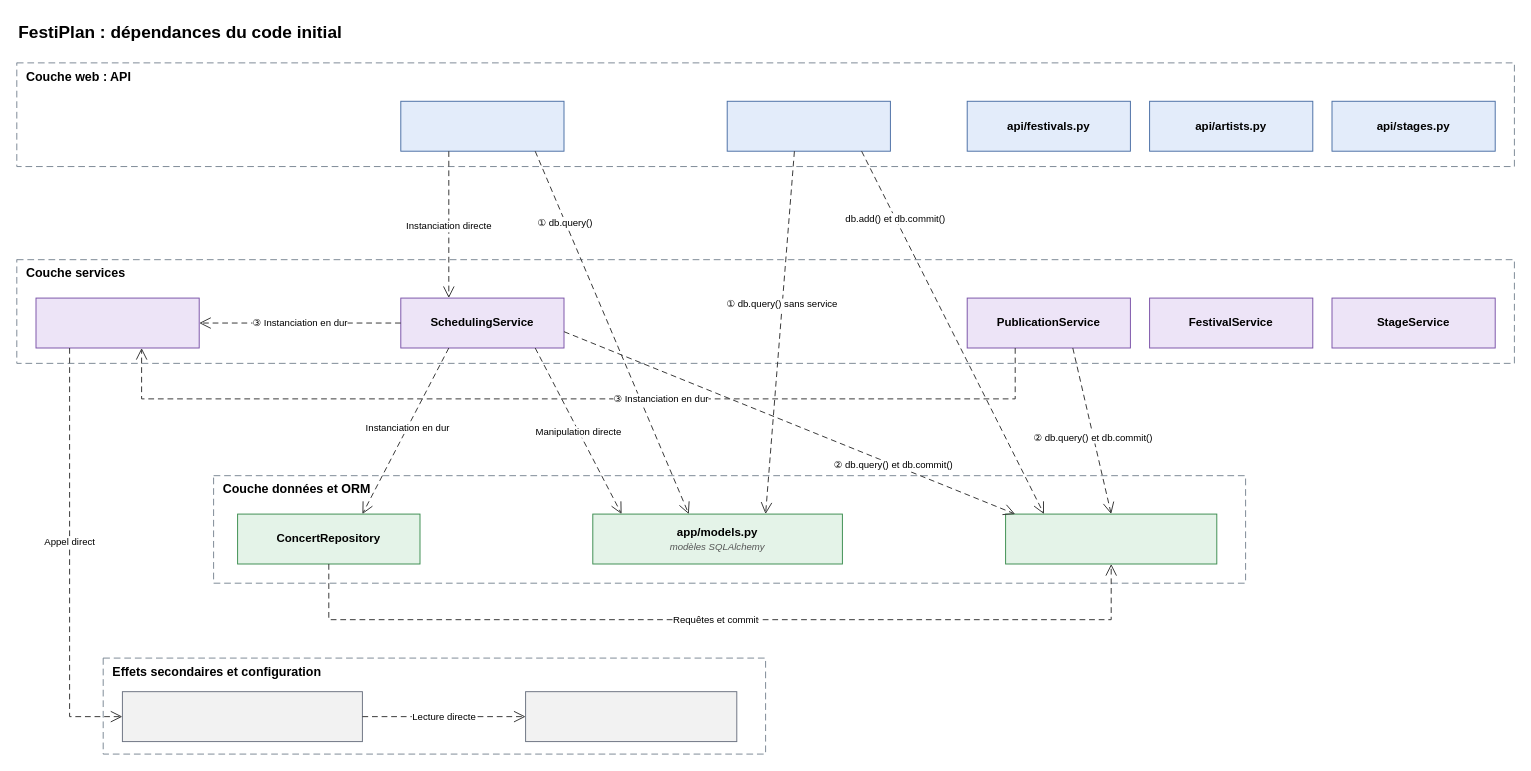
Image size: 1531x771. Some labels were removed from this diagram. The shapes that lost their labels are listed below. From the top down, each one's centre as x and y in pixels, then its label:
At point (482, 125): "api/concerts.py".
At point (808, 125): "api/incidents.py".
At point (117, 322): "NotificationService".
At point (1111, 538): "Session SQLAlchemy".
At point (241, 716): "app/utils/email_sender.py".
At point (631, 716): "app/config.py settings".
